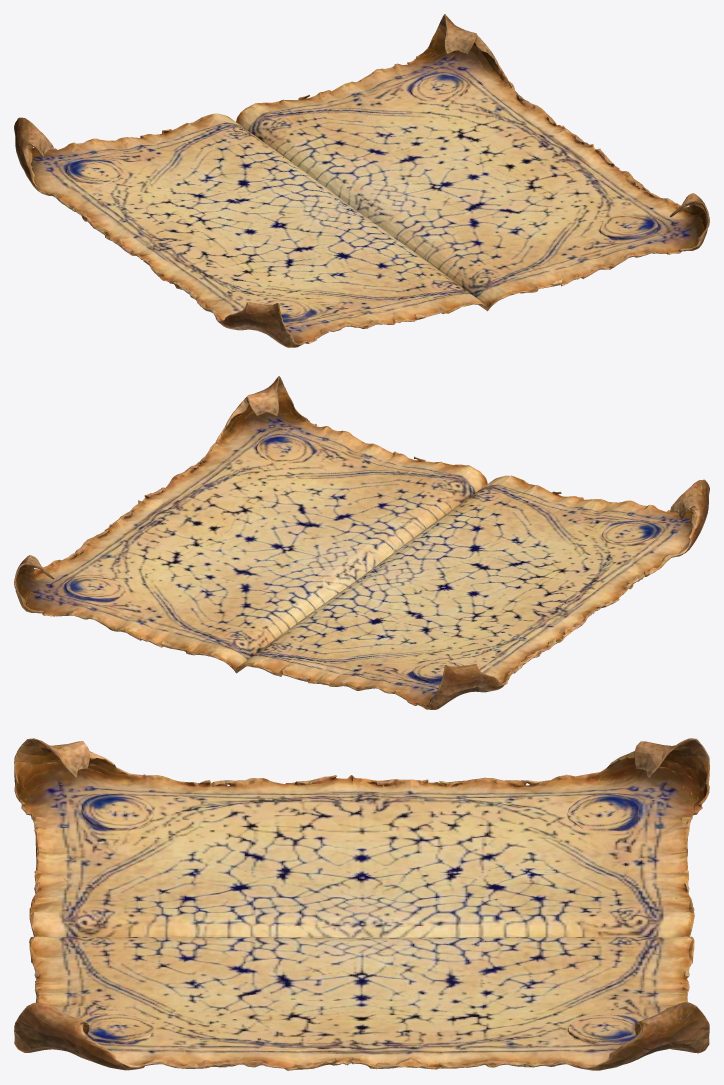
Rendered from dress-starchart.glb.
The picture shows the model from 3 angles, top to bottom: view 1: azimuth 30°, elevation 25°; view 2: azimuth 150°, elevation 25°; view 3: azimuth 270°, elevation 25°; orthographic projection. The views are drawn at different scales.
Bounding box in the file's own units: 0.998 × 0.1226 × 0.9997.
Materials: 1 (1 with a texture image).
